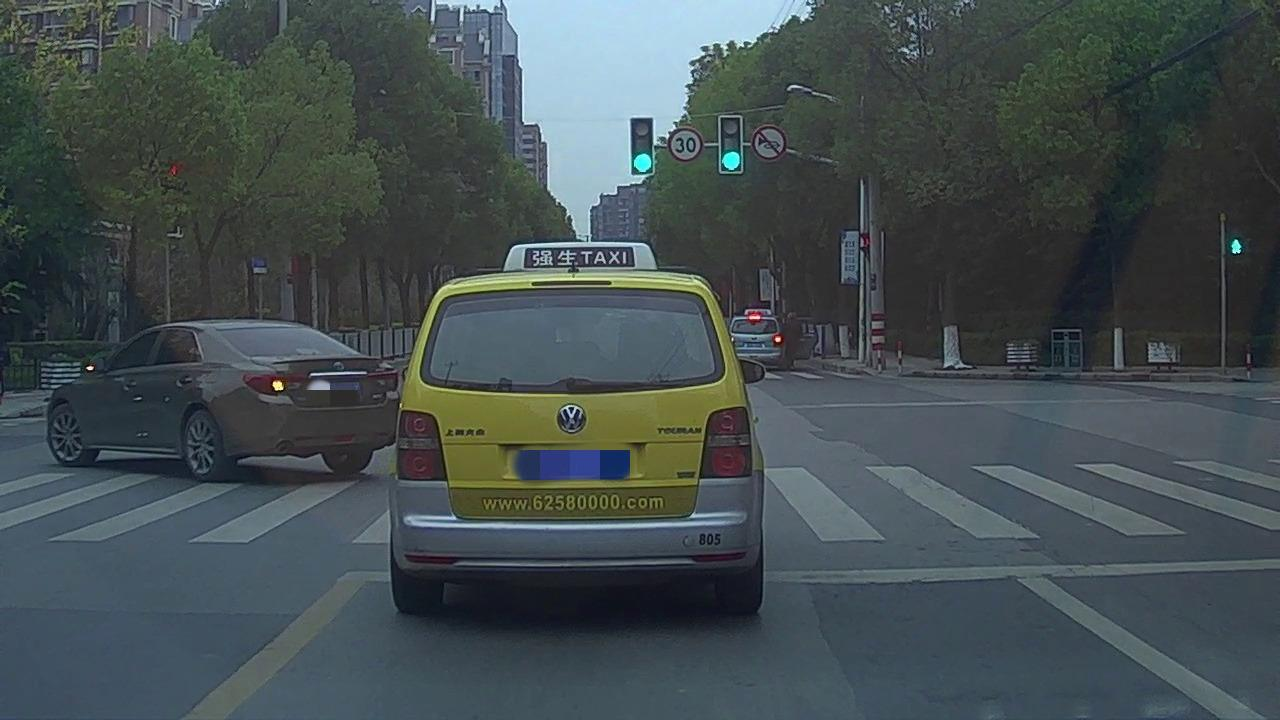traffic_light: (720, 116, 742, 172), (632, 121, 654, 175)
